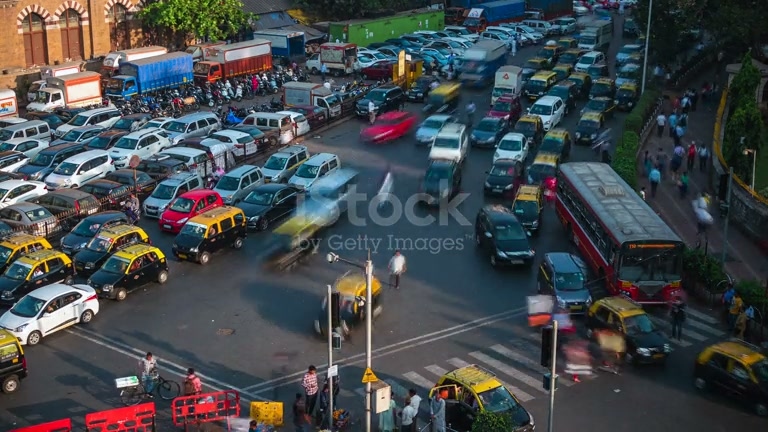bus: (553, 160, 687, 309)
car: (429, 364, 536, 431), (0, 281, 100, 346), (584, 295, 674, 367), (692, 340, 768, 418), (88, 241, 170, 302), (0, 243, 74, 308), (171, 205, 248, 265), (71, 222, 151, 278), (474, 205, 536, 270), (223, 182, 301, 231), (537, 251, 593, 312), (60, 211, 130, 257), (40, 148, 114, 191), (159, 187, 225, 235), (142, 172, 204, 220), (0, 202, 60, 240), (287, 152, 340, 192), (213, 164, 265, 204), (259, 144, 310, 184), (359, 110, 417, 145), (428, 121, 471, 166), (421, 159, 463, 205), (0, 327, 28, 394), (355, 86, 406, 121), (482, 159, 523, 197), (493, 132, 531, 168), (470, 116, 509, 149), (415, 113, 453, 146)
pedestrian: (137, 351, 160, 396), (302, 365, 320, 416), (387, 249, 406, 289), (181, 367, 204, 396)
